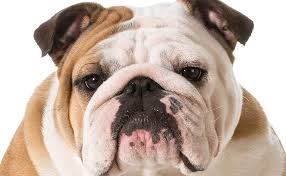Bulldog: (23, 2, 275, 176)
